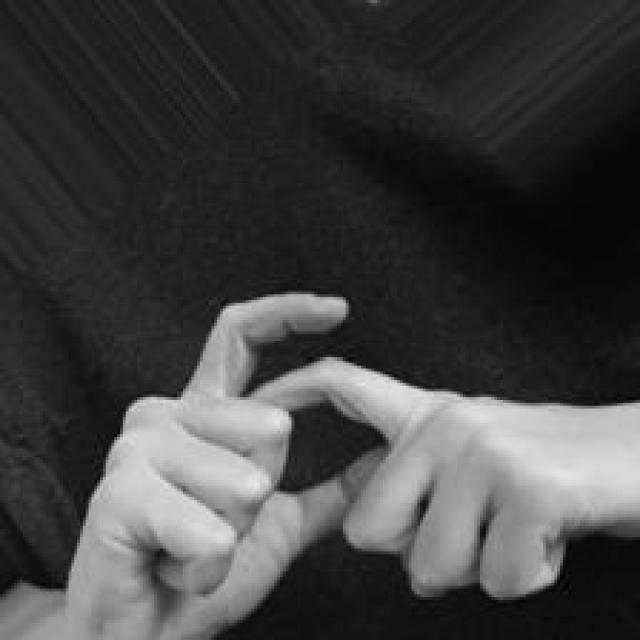G: (0, 286, 640, 640)
